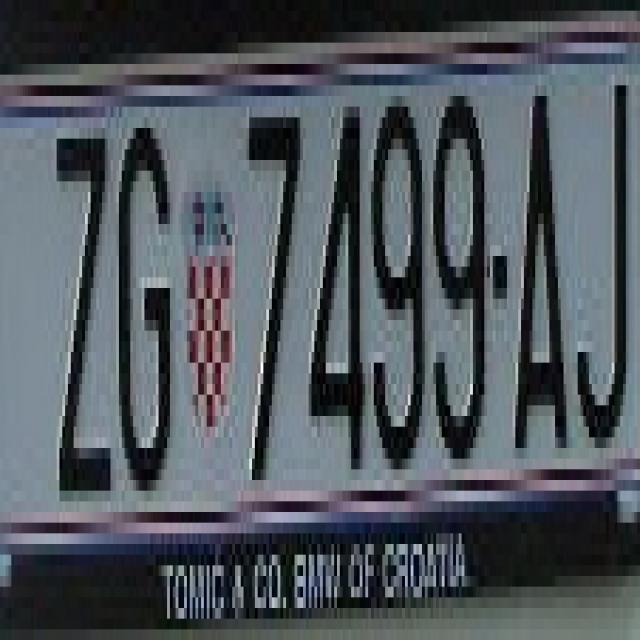4: (306, 96, 368, 469)
7: (246, 107, 303, 490)
9: (374, 96, 425, 480), (436, 117, 487, 448)
A: (507, 74, 566, 458)
G: (121, 117, 176, 480)
Z: (48, 107, 116, 490)
